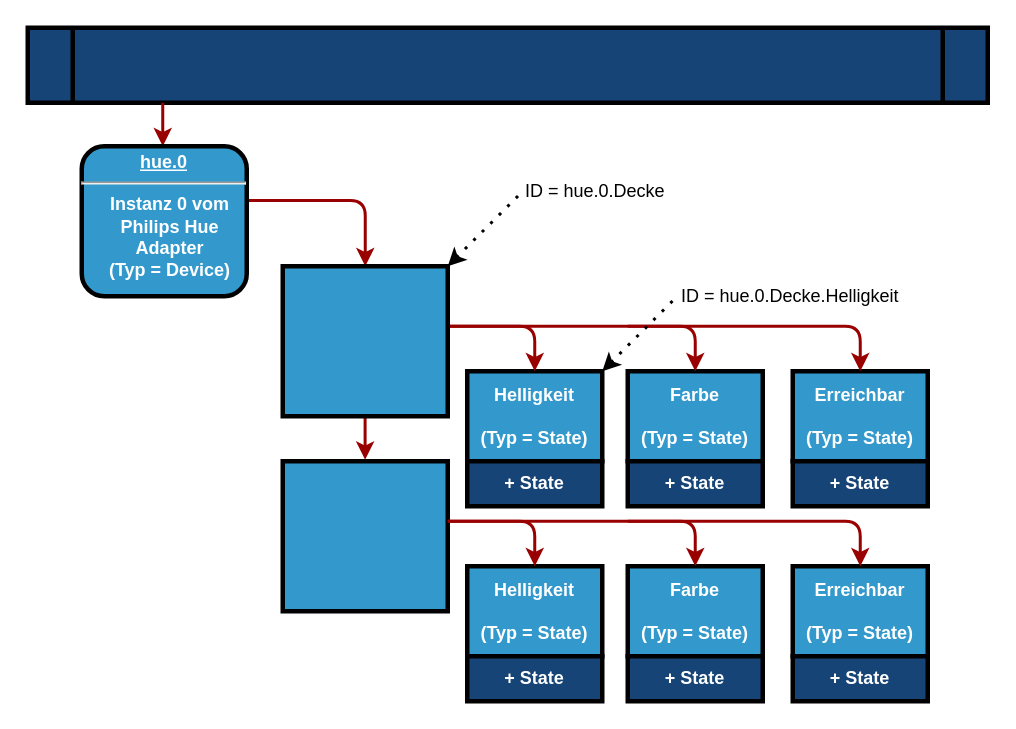
Some shapes in this 1016 by 729 pixel diagram are drawn without their labels. Here are the shapes that lost their labels. From the top down, the centre of each, then its label:
[507,64]: ioBroker Objekt-Datenbank
[364,340]: hue.0.Decke Objekt ohne State - nur für Organisation (Typ = Kanal)
[364,535]: hue.0.Bett Objekt ohne State - nur für Organisation (Typ = Kanal)
